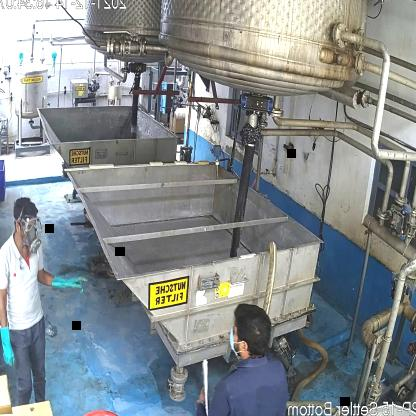goggles: (18, 215, 44, 236)
mask: (19, 226, 43, 257)
